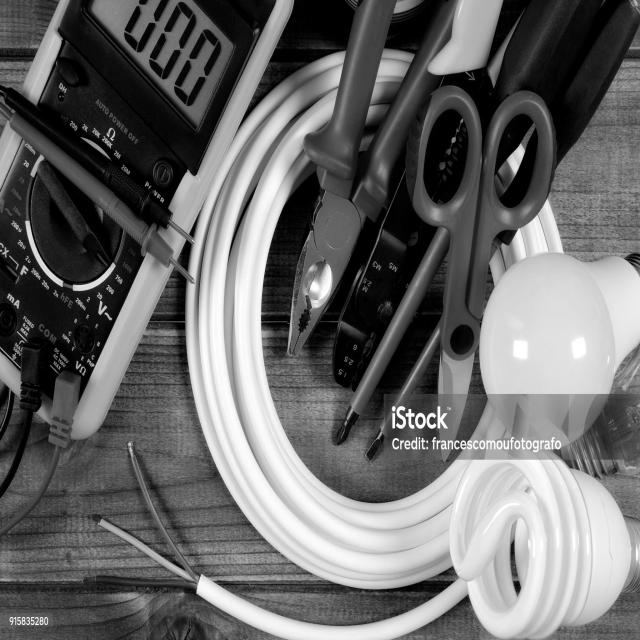bulb: (442, 433, 640, 638), (481, 235, 640, 458)
multimeter: (0, 0, 300, 547)
pliers: (332, 0, 591, 399), (286, 2, 462, 368)
scissors: (407, 85, 558, 469)
screwdriver: (336, 0, 617, 445), (370, 0, 640, 460)
